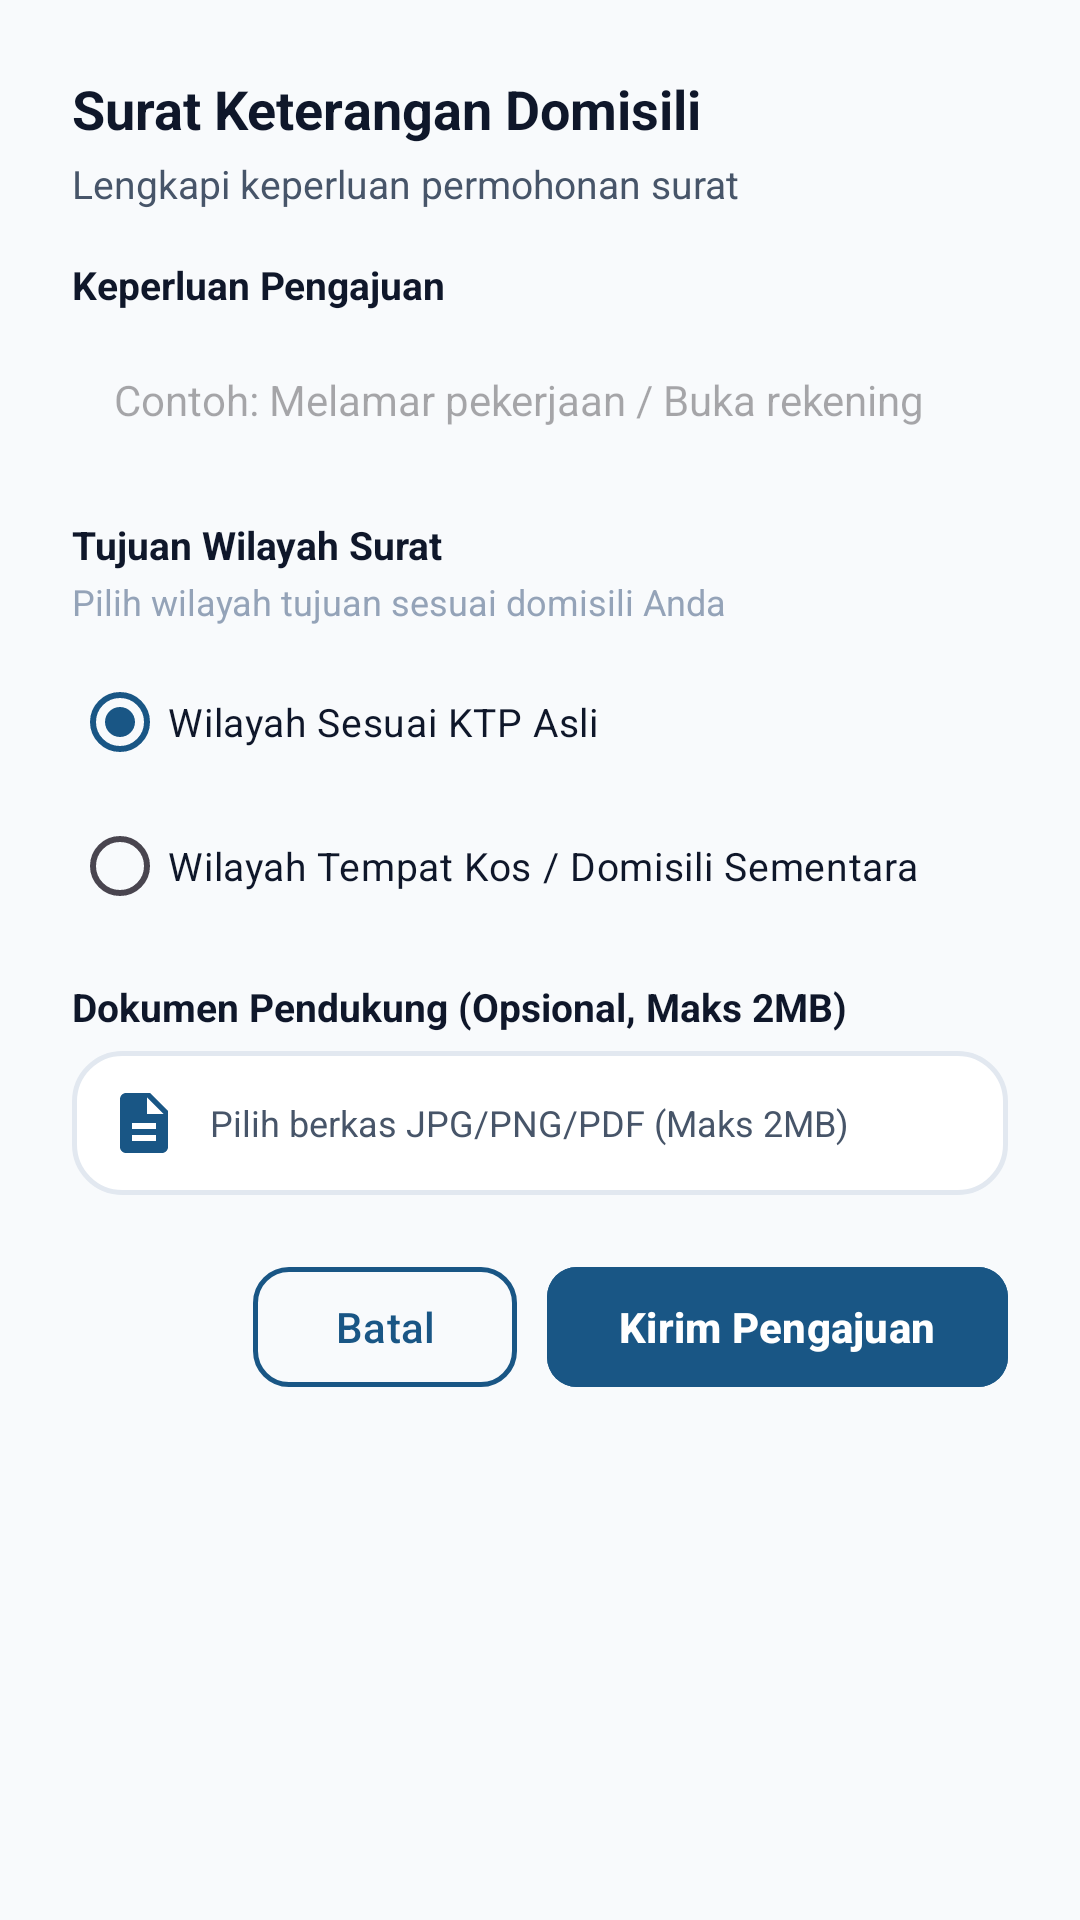

Named icons in this screenshot (1080*1920) and their centers, (x=x, y=y):
document: (x=144, y=1123)
